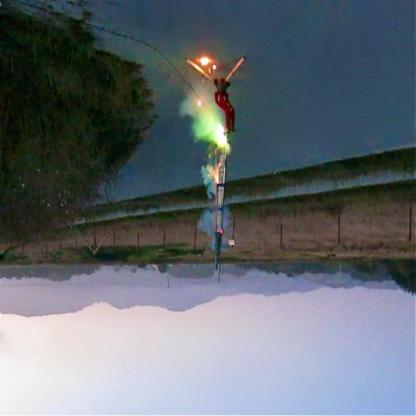MIL_TBM: (212, 142, 228, 275)
